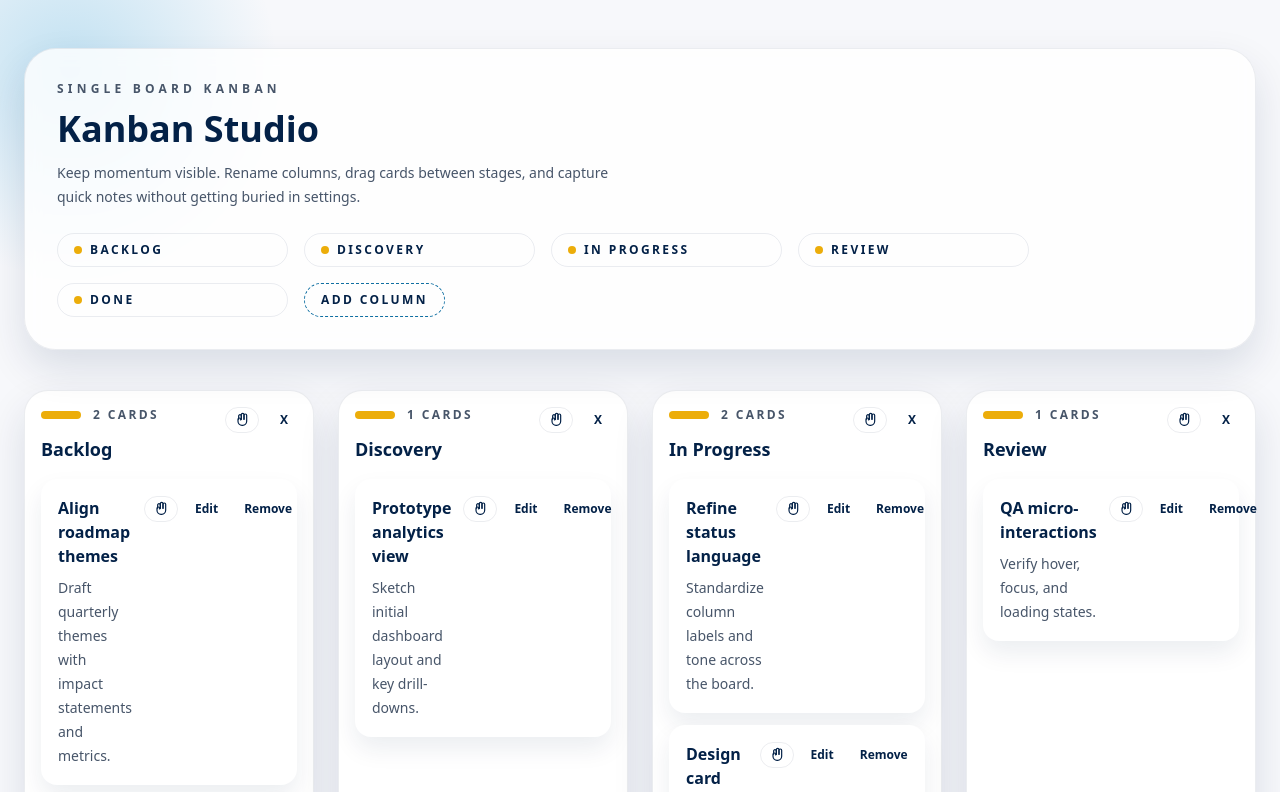
Test case: KanbanBoard › keeps dashboard column pills and board titles in sync
The width and height of the screenshot is (1280, 792).
Step 1. Replace the text in the field with test id "dashboard-column-pill-input-col-backlog" with "Ideas" → [180, 250], box [90, 242, 271, 258]
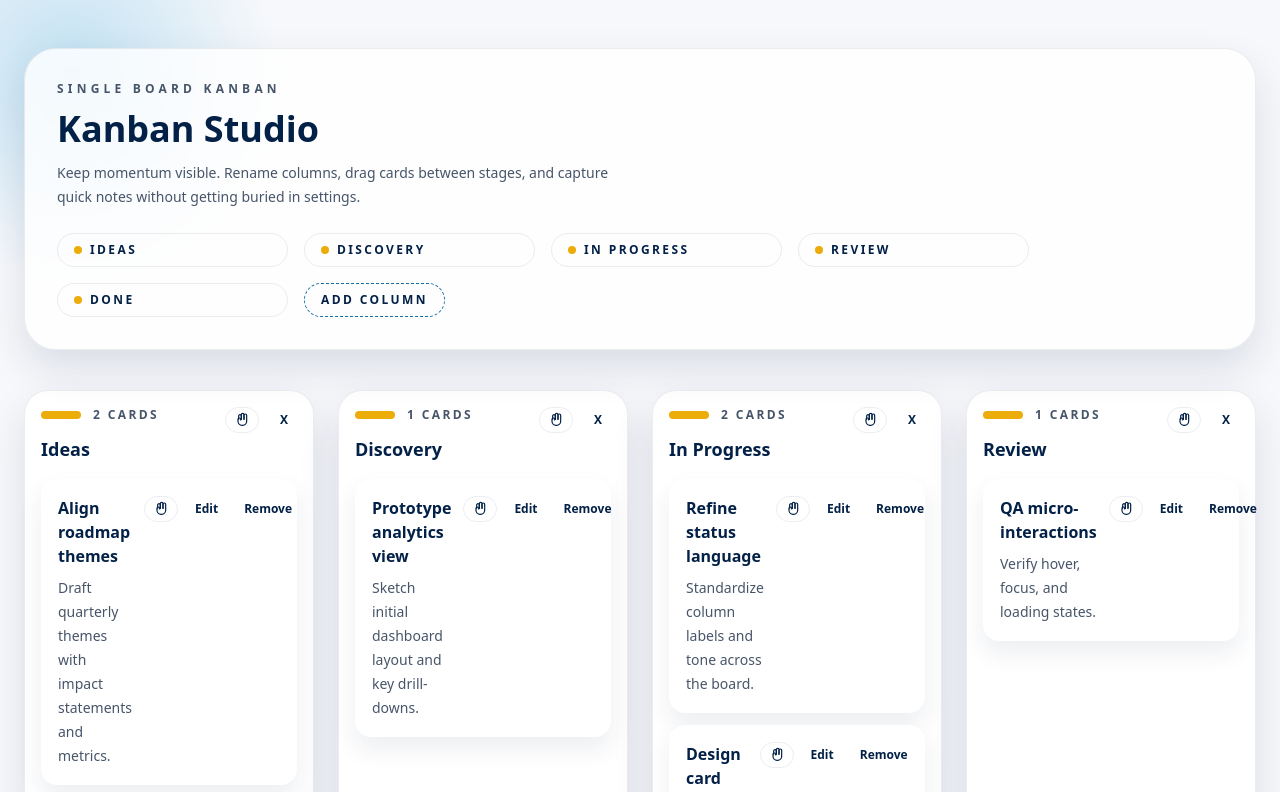
Expected: the 1st field named "Column title" holds "Ideas"
Step 2. Replace the text in the 1st field named "Column title" with "Research" → [127, 449], box [41, 435, 213, 463]
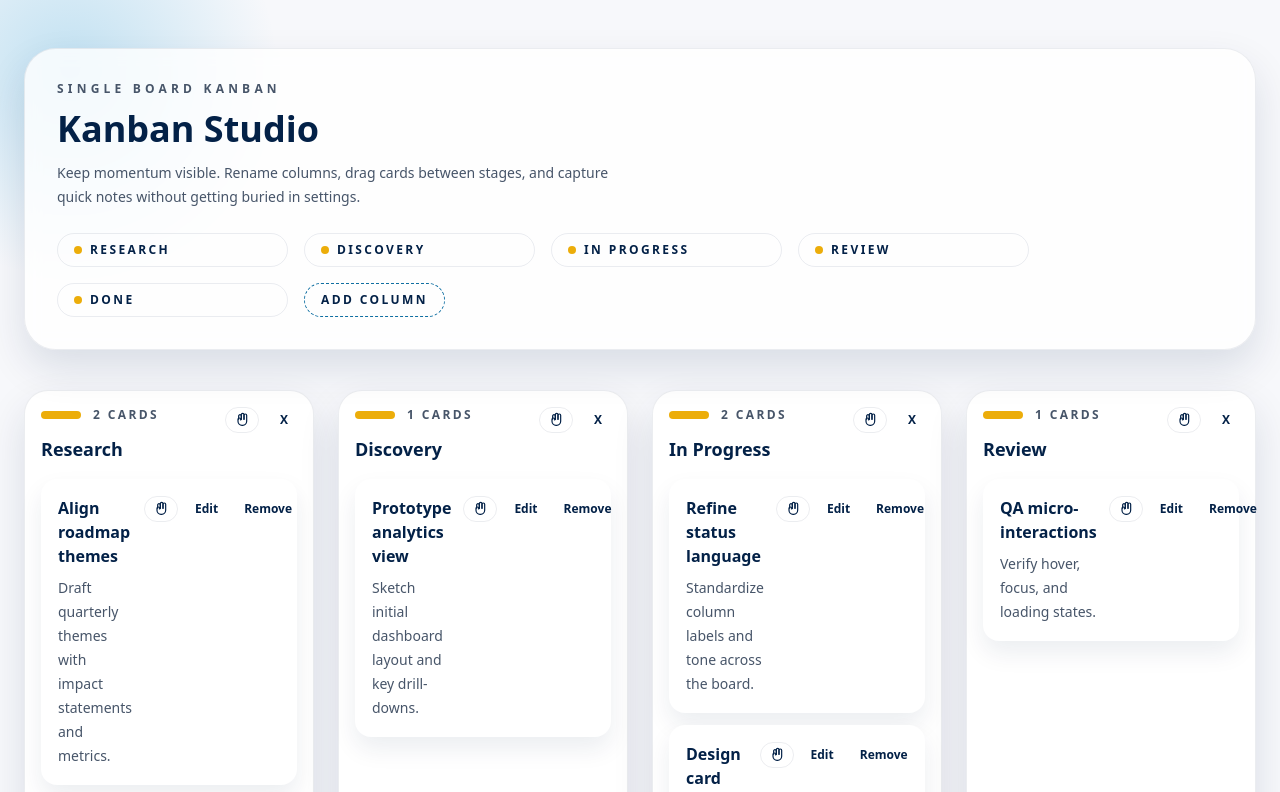
Expected: the field with test id "dashboard-column-pill-input-col-backlog" holds "Research", [90, 242, 271, 258]
